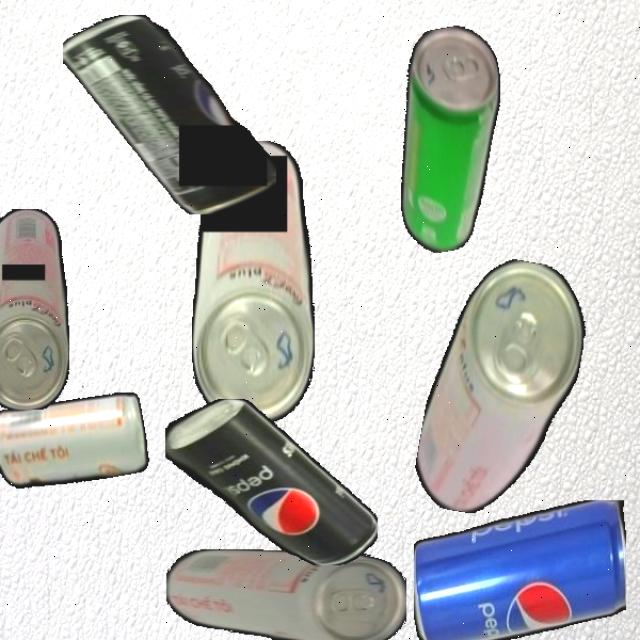debris: (410, 250, 595, 527), (63, 14, 276, 214), (372, 20, 528, 257), (164, 399, 378, 565), (191, 140, 315, 421), (413, 499, 626, 640), (166, 549, 407, 640), (0, 387, 151, 496), (0, 208, 69, 409)
